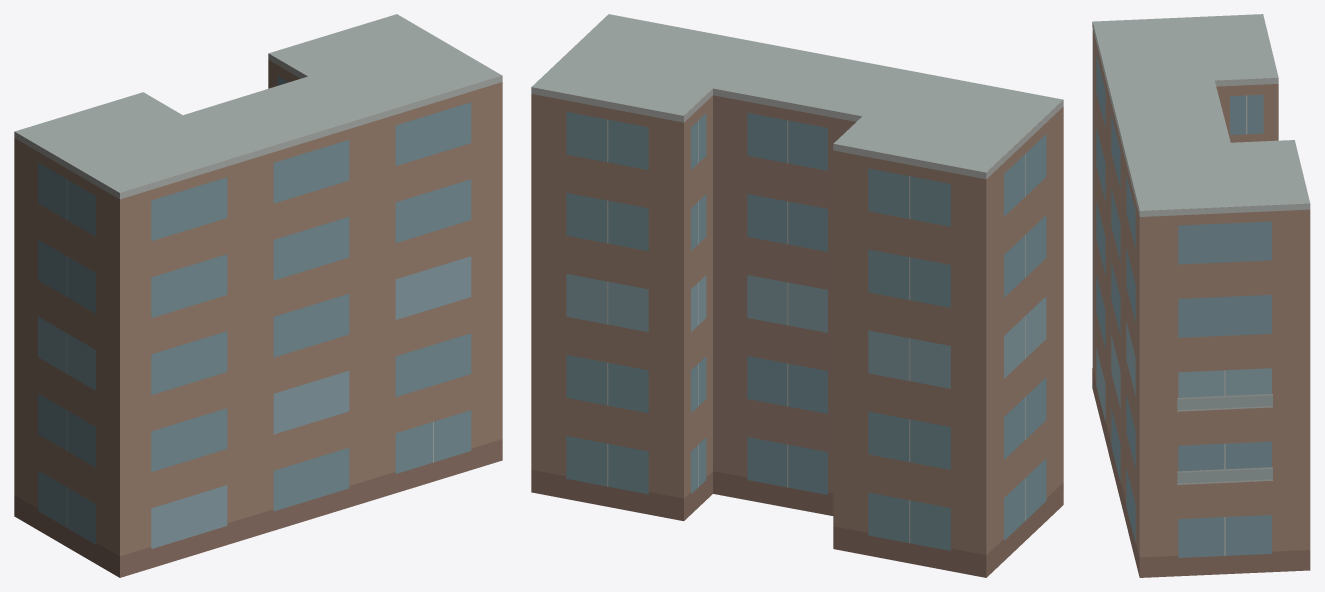
Rendered from survey-upis-32519937.glb.
3 views of the same model, side by side, from view 1: azimuth 30°, elevation 25°; view 2: azimuth 150°, elevation 25°; view 3: azimuth 270°, elevation 25° (orthographic). The views are drawn at different scales.
Visible parts, largest first — view 1: survey-upis-32519937.tmp; view 2: survey-upis-32519937.tmp; view 3: survey-upis-32519937.tmp.
Part boxes in pixels (x1,y1,x2,y2): survey-upis-32519937.tmp: (14,14,502,577); survey-upis-32519937.tmp: (531,14,1063,577); survey-upis-32519937.tmp: (1092,14,1310,577).
Size of the model in its own units: 16.93 by 14.7 by 7.92.
